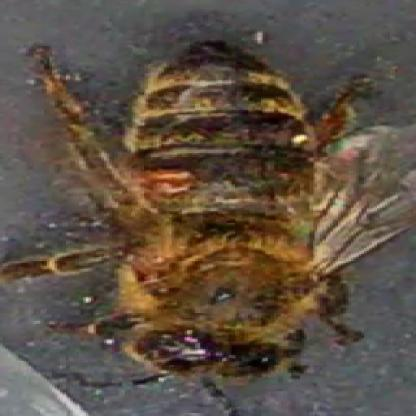bee: (58, 28, 368, 380)
vaoora: (136, 167, 194, 195)
